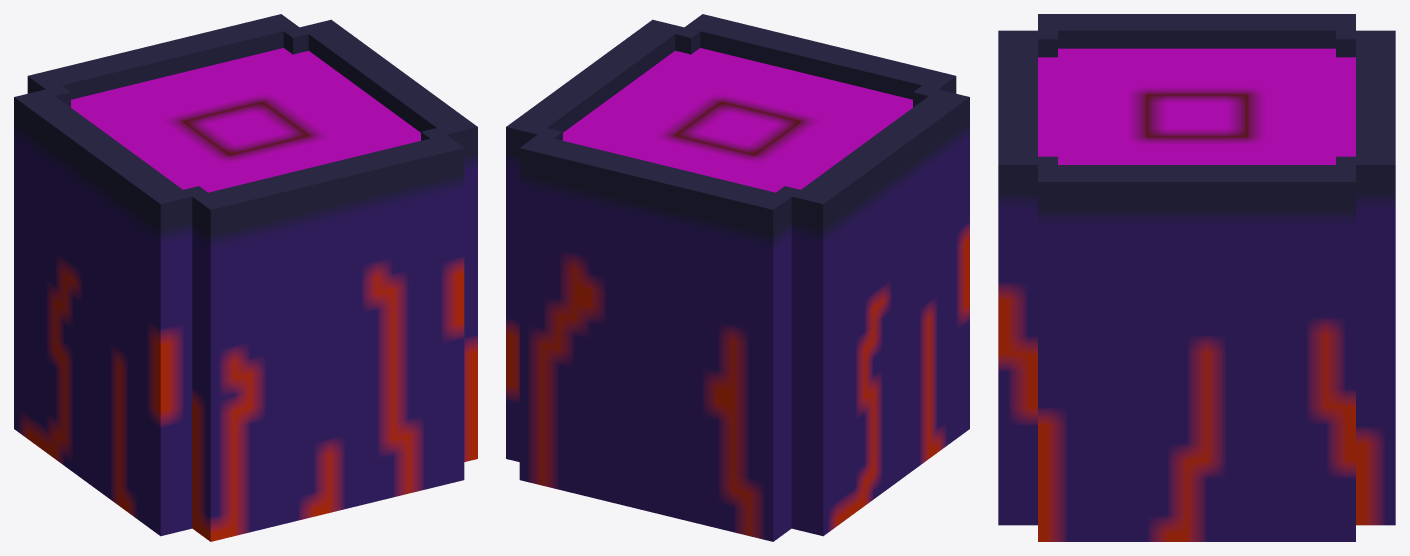
Rendered from SpeedDownTrap_5.fbx.
The picture shows the model from 3 angles, left to right: view 1: azimuth 30°, elevation 25°; view 2: azimuth 150°, elevation 25°; view 3: azimuth 270°, elevation 25°; orthographic projection. The views are drawn at different scales.
Parts seen in each view (by area): view 1: SpeedDownTrap_5; view 2: SpeedDownTrap_5; view 3: SpeedDownTrap_5.
Boxes of the visible parts, x1,y1,x2,y2 form: SpeedDownTrap_5: (14,14,477,541); SpeedDownTrap_5: (506,14,969,541); SpeedDownTrap_5: (998,14,1395,541).
Bounding box in the file's own units: 20 × 20 × 20.
1 material, 1 textured.
